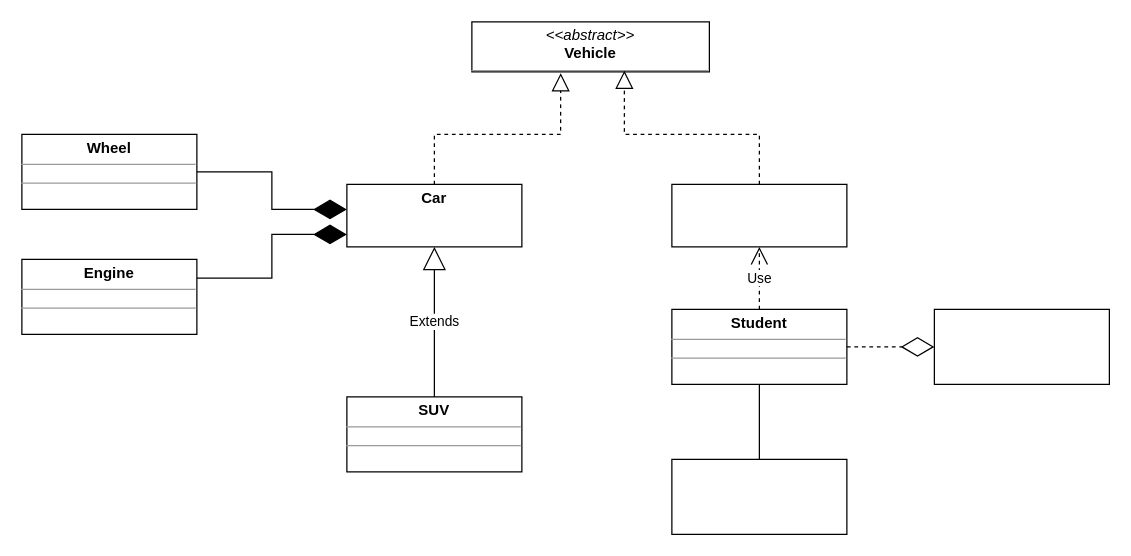
The diagram is 1131 pixels wide and 556 high, and some of its shapes have lost their labels. Each missing label, with the centre of its shape:
"Bicycle" belongs at point (759, 215).
"Class" belongs at point (1021, 346).
"ID" belongs at point (759, 496).
